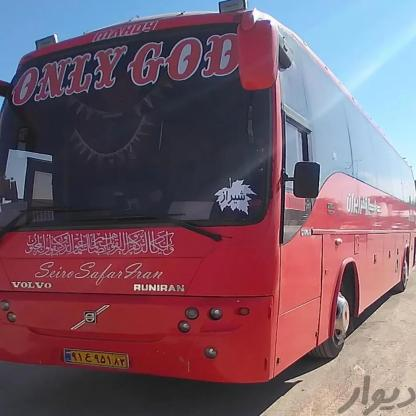Bus: (0, 0, 416, 373)
